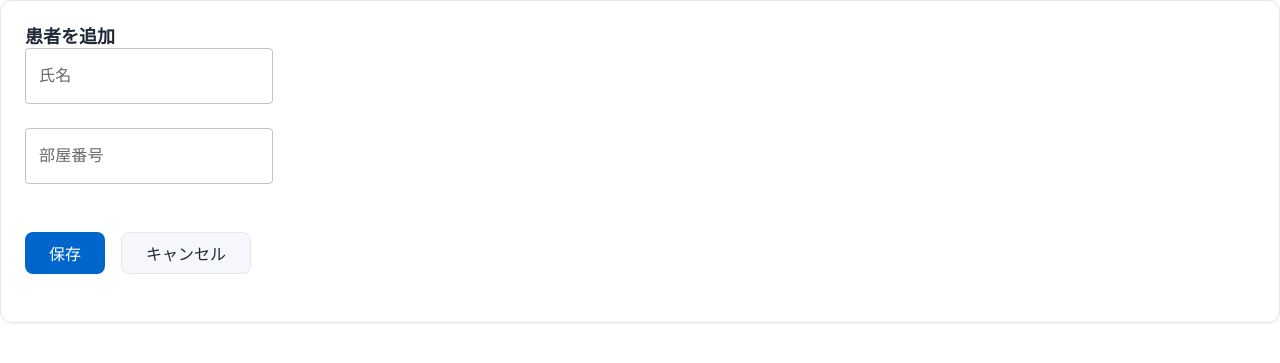
it: AddPatientForm › 氏名は空欄、部屋番号は入力済み
Type "999" into the field labelled "部屋番号".
click(149, 156); type("999")  # box [25, 128, 273, 184]
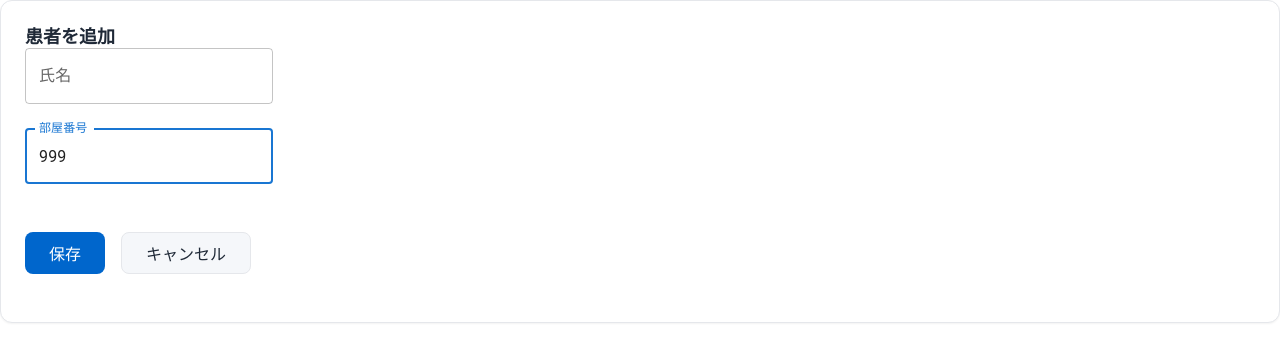
Click the button "保存".
click(65, 253)  # box [25, 232, 105, 274]
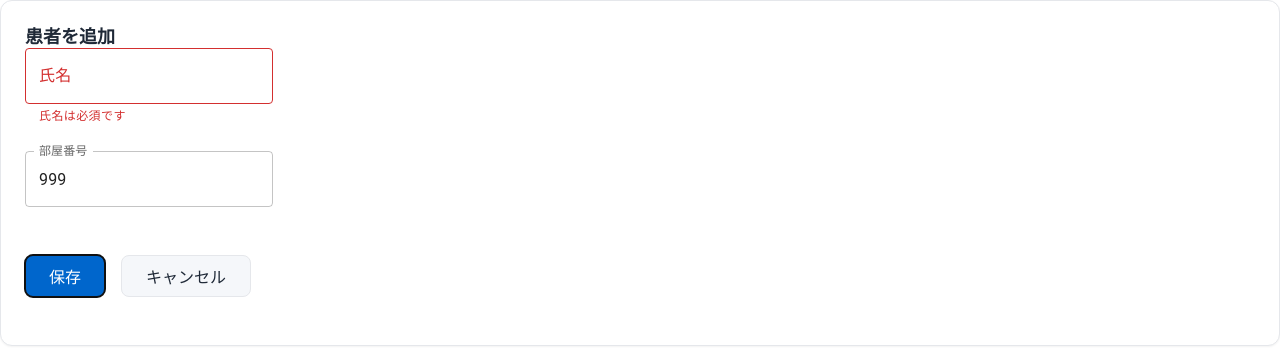
Check: the text "氏名は必須です" is shown, box [39, 109, 126, 123]
